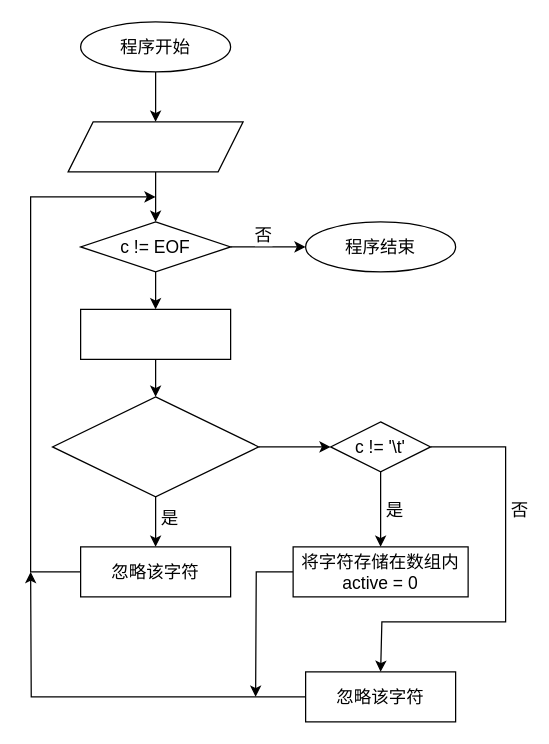
Some shapes in this 549 by 744 pixel diagram are drawn without their labels. Each missing label, with the centre of its shape:
active == 1 且输入的字符是‘ ’: pixel 155 446
接受单字符输入: pixel 155 146
若输入的字符是\n active = 1: pixel 155 333
